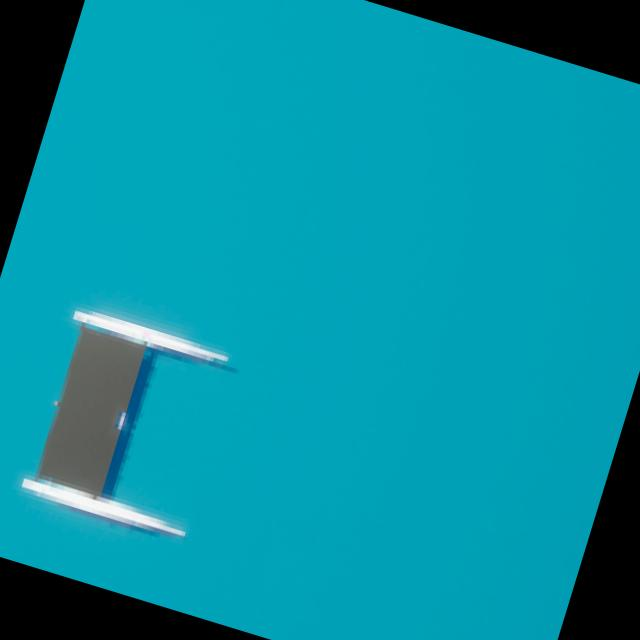boat: (0, 287, 240, 570)
drone: (38, 330, 146, 494)
